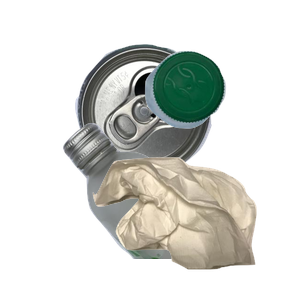glass: (60, 120, 300, 300)
metal: (73, 42, 277, 212)
plastic: (142, 48, 300, 169)
trash: (90, 155, 300, 300)
